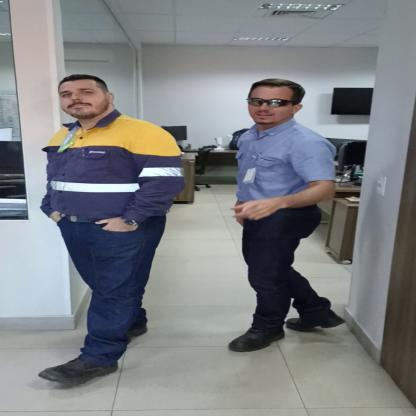Operacional: (34, 121, 192, 223)
